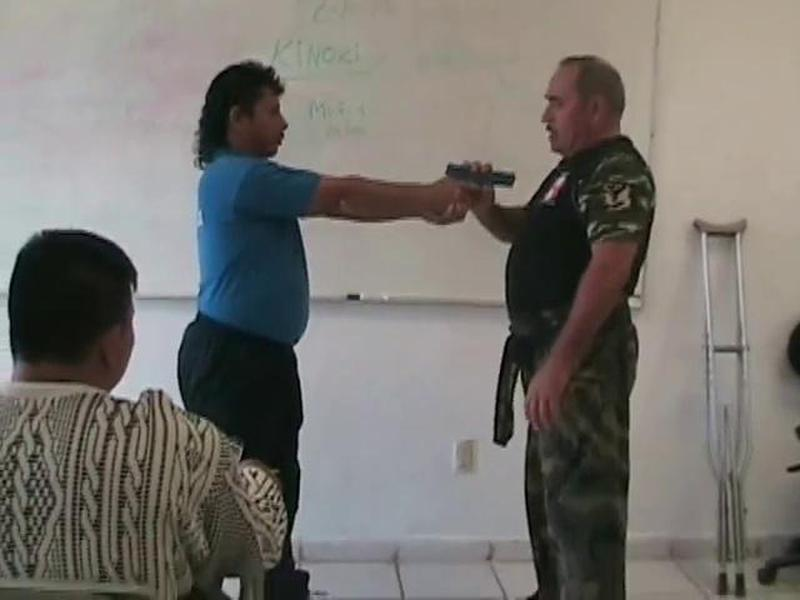Pistola: (432, 157, 516, 224)
